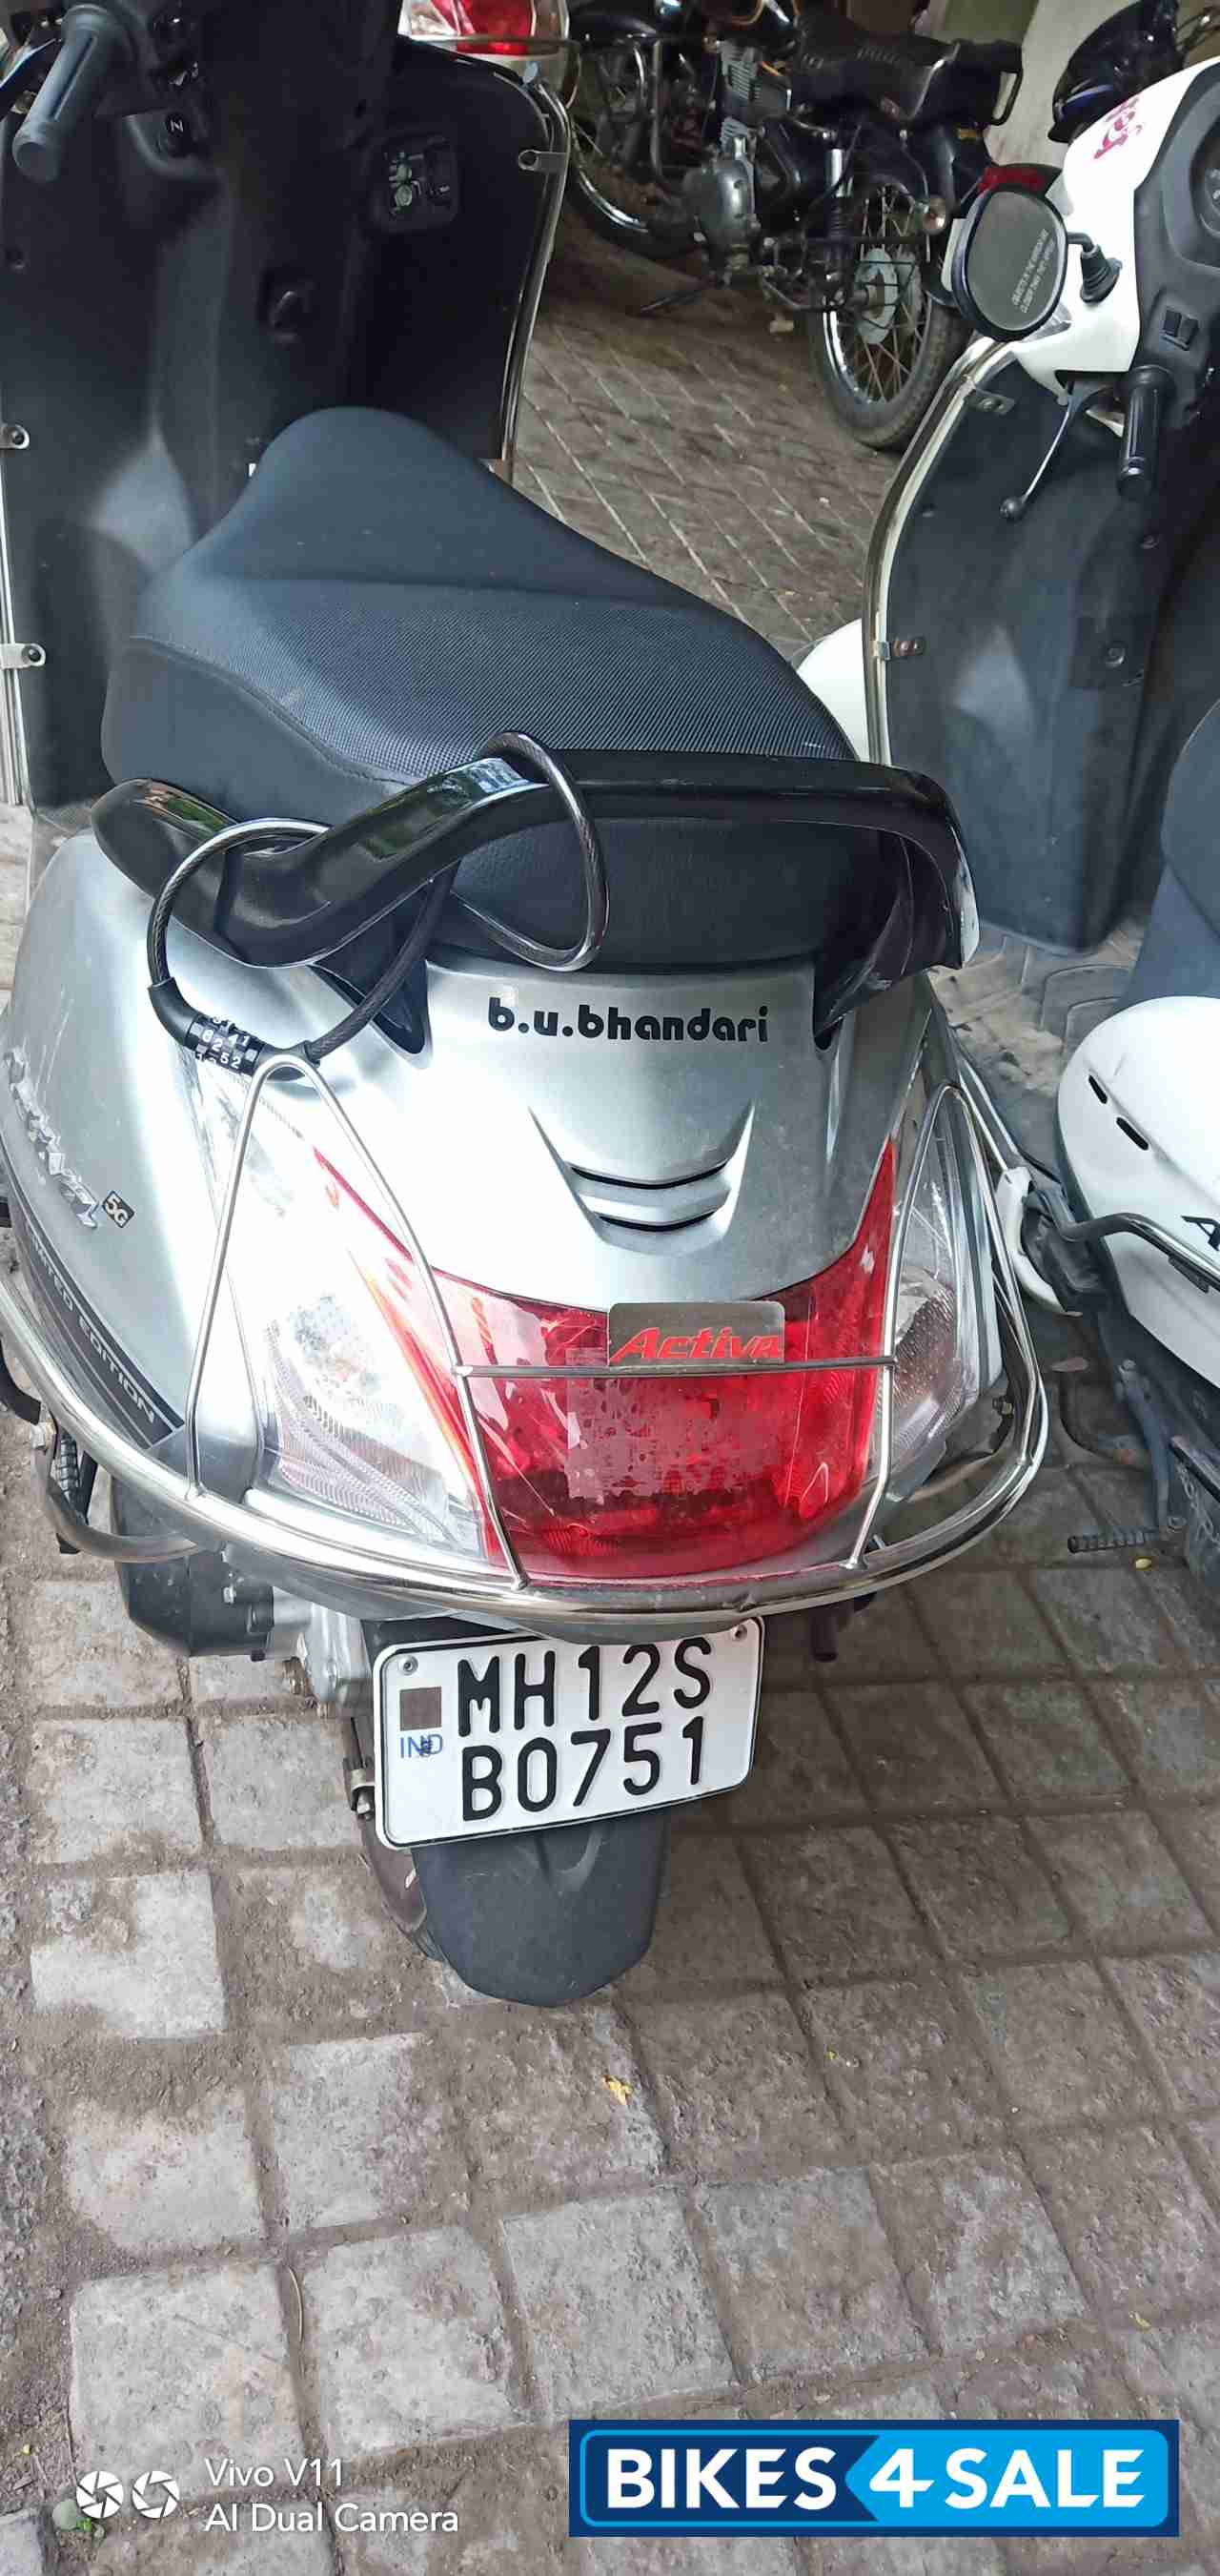doublelinenumberplate: (372, 1633, 773, 1839)
